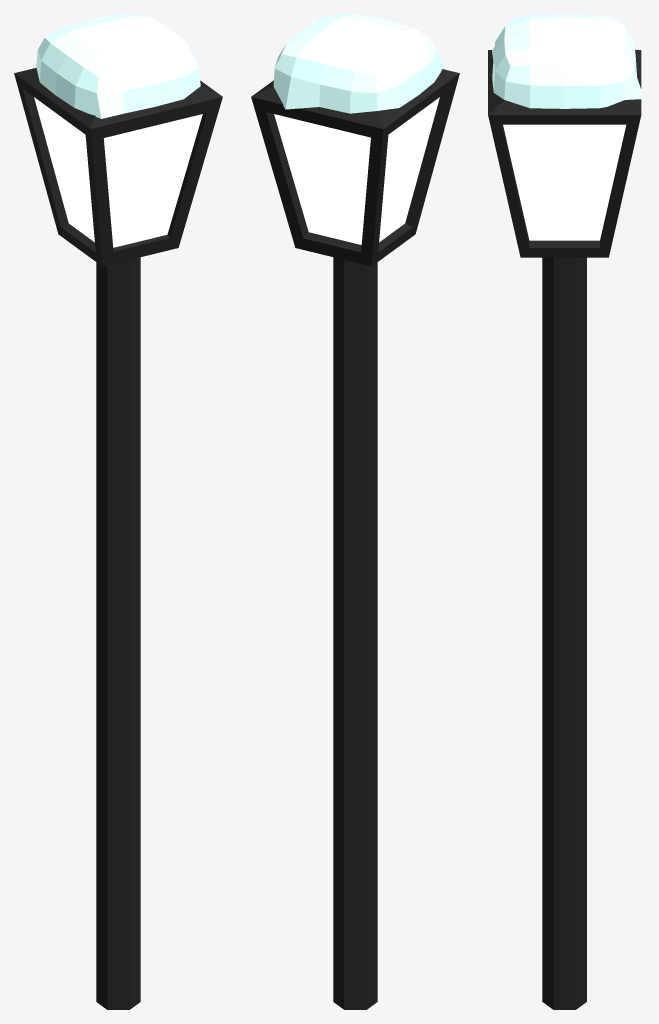
The model's file is laterne.fbx.
3 renders of one model, left to right at view 1: azimuth 30°, elevation 25°; view 2: azimuth 150°, elevation 25°; view 3: azimuth 270°, elevation 25°, orthographic.
Visible parts, largest first — view 1: Cube.005; view 2: Cube.005; view 3: Cube.005.
Boxes of the visible parts, x1,y1,x2,y2 form: Cube.005: (14,14,222,1009); Cube.005: (251,14,459,1009); Cube.005: (488,14,644,1009).
Bounding box in the file's own units: 110 × 768 × 113.
